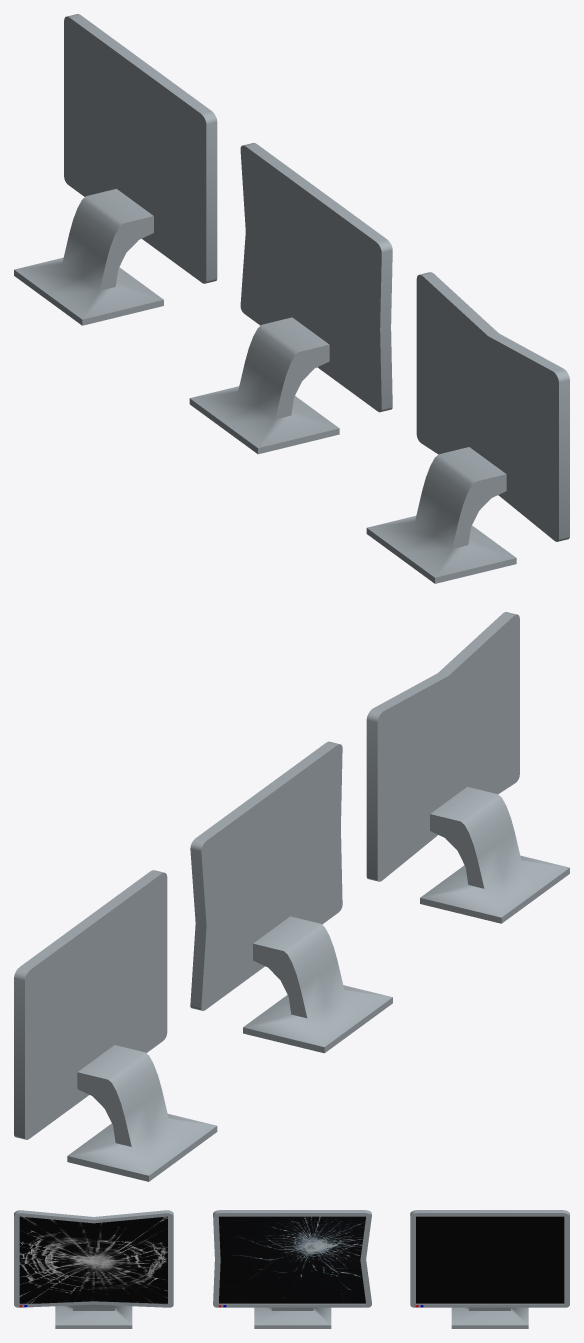
Rendered from monitor.fbx.
3 renders of one model, top to bottom at view 1: azimuth 30°, elevation 25°; view 2: azimuth 150°, elevation 25°; view 3: azimuth 270°, elevation 25°, orthographic. The views are drawn at different scales.
Visible parts, largest first — view 1: Monitor.002, Monitor.001, Monitor; view 2: Monitor.002, Monitor.001, Monitor; view 3: Monitor.002, Monitor.001, Monitor.
Boxes of the visible parts, box(x1,y1,x2,y2) form: Monitor.002: box(14, 14, 217, 325); Monitor.001: box(189, 143, 392, 454); Monitor: box(366, 272, 569, 583); Monitor.002: box(14, 870, 217, 1181); Monitor.001: box(190, 741, 392, 1053); Monitor: box(366, 612, 569, 923); Monitor.002: box(410, 1210, 569, 1328); Monitor.001: box(213, 1210, 371, 1328); Monitor: box(14, 1210, 173, 1328).
Size of the model in its own units: 114 by 236 by 989.
Materials: 12 (2 with a texture image).
